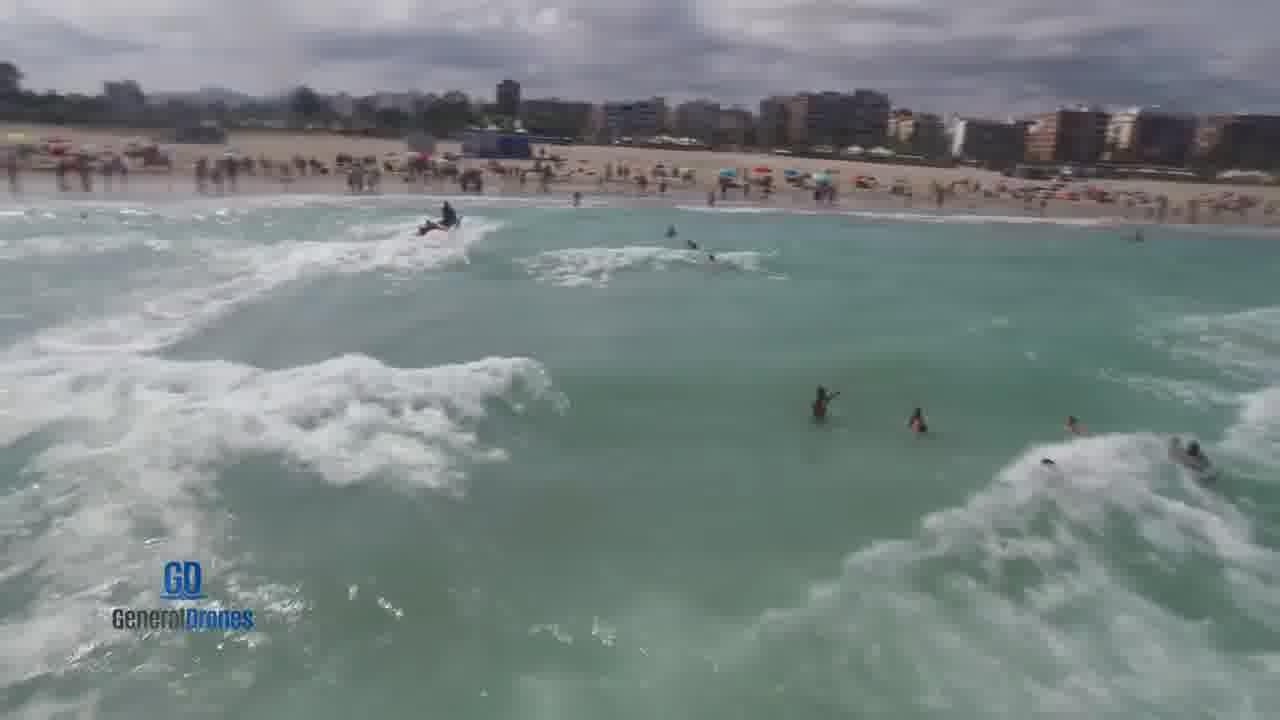swimmer: (797, 370, 843, 442), (1049, 391, 1104, 444), (1177, 423, 1217, 482), (897, 401, 943, 440), (652, 220, 679, 237), (698, 248, 717, 268)
